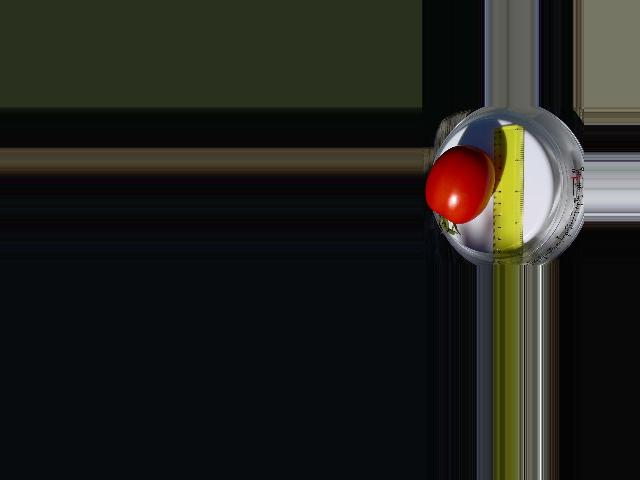tomato: (424, 146, 496, 224)
